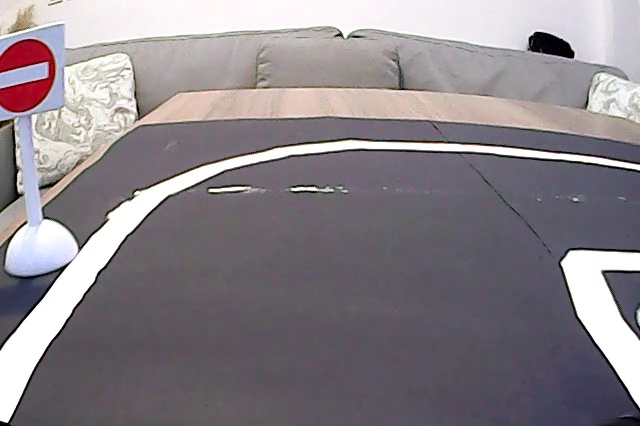do not enter: (1, 33, 63, 118)
